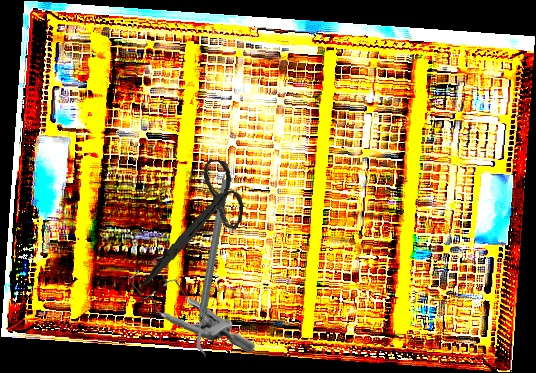Chopper: (134, 177, 294, 359)
Iris Scissors: (142, 152, 249, 297)
Speculum: (122, 252, 262, 354)
